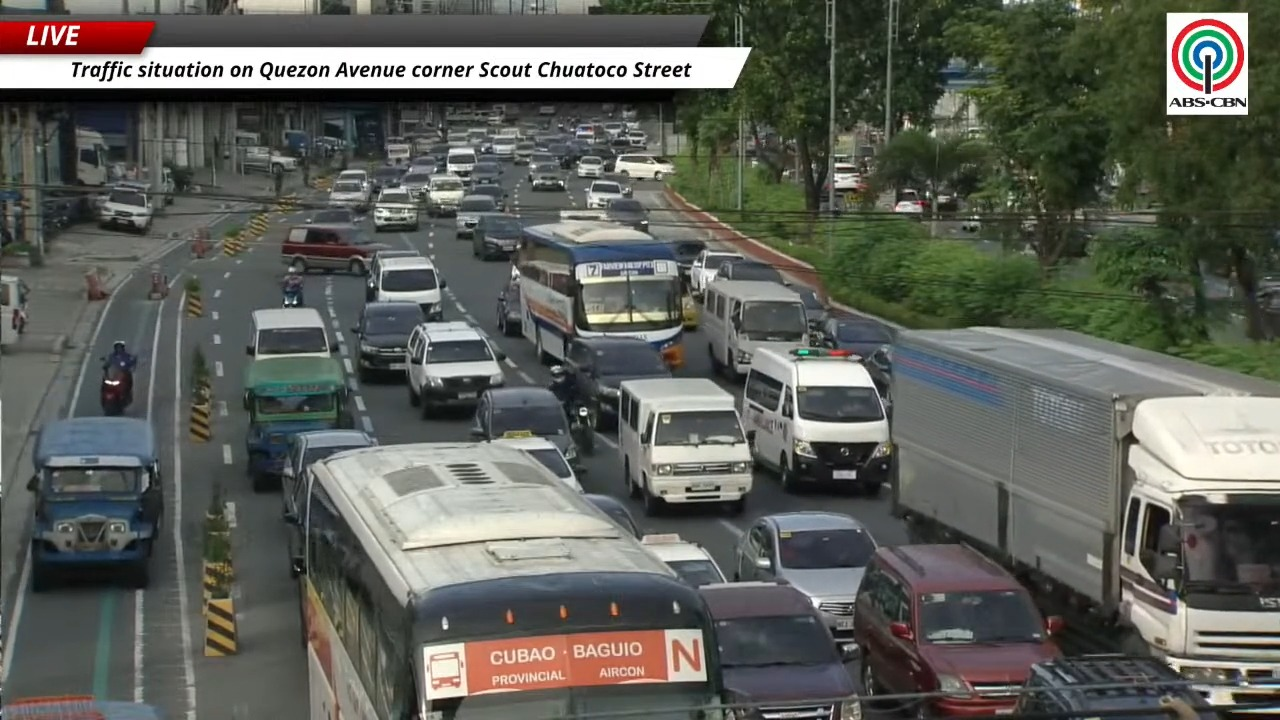bus: (286, 443, 721, 719), (513, 221, 683, 367)
car: (849, 544, 1062, 716), (699, 582, 861, 719), (732, 511, 877, 641), (1009, 654, 1222, 719), (281, 429, 377, 565), (551, 337, 670, 429), (406, 321, 505, 418), (470, 386, 578, 463), (282, 429, 377, 516), (351, 301, 426, 381), (281, 224, 387, 274), (492, 437, 584, 492), (641, 534, 726, 586), (365, 249, 420, 301), (822, 317, 893, 357), (584, 493, 642, 538), (689, 249, 743, 295), (472, 214, 522, 259), (715, 257, 789, 286), (455, 194, 499, 238), (374, 188, 418, 231), (862, 344, 891, 408), (668, 238, 706, 281), (793, 287, 829, 331), (606, 198, 649, 232), (496, 281, 522, 336), (328, 179, 369, 212), (585, 180, 626, 209), (468, 184, 508, 212), (400, 168, 433, 201), (530, 163, 565, 190), (526, 152, 556, 182), (371, 165, 404, 192), (306, 207, 358, 224), (471, 161, 501, 188), (682, 293, 701, 331), (334, 169, 370, 188), (547, 142, 572, 169), (592, 145, 617, 172), (577, 155, 604, 178), (408, 155, 442, 173), (492, 136, 518, 159), (893, 200, 924, 217), (514, 141, 535, 164), (426, 142, 451, 158), (608, 136, 633, 152), (626, 130, 648, 148), (603, 121, 625, 138), (539, 105, 555, 116)
motorcycle: (548, 365, 594, 454), (100, 364, 131, 416), (570, 405, 594, 455), (282, 289, 301, 307)
truck: (890, 327, 1279, 705), (0, 695, 163, 719), (75, 127, 110, 186), (240, 146, 298, 173)
